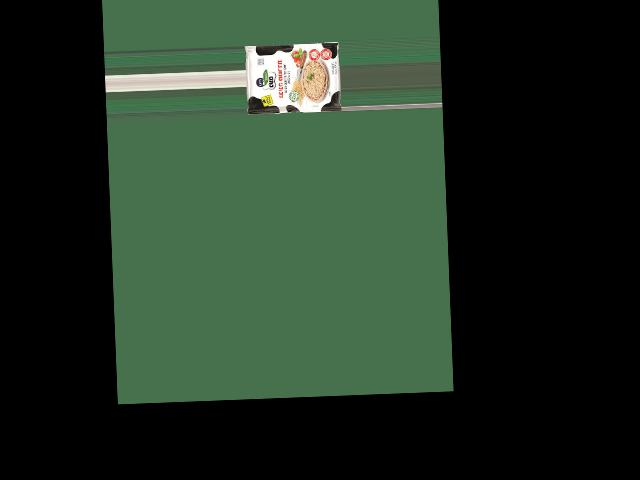cheese: (251, 30, 337, 116)
